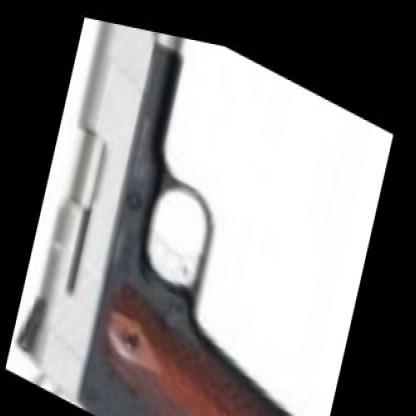pistol: (8, 3, 375, 414)
